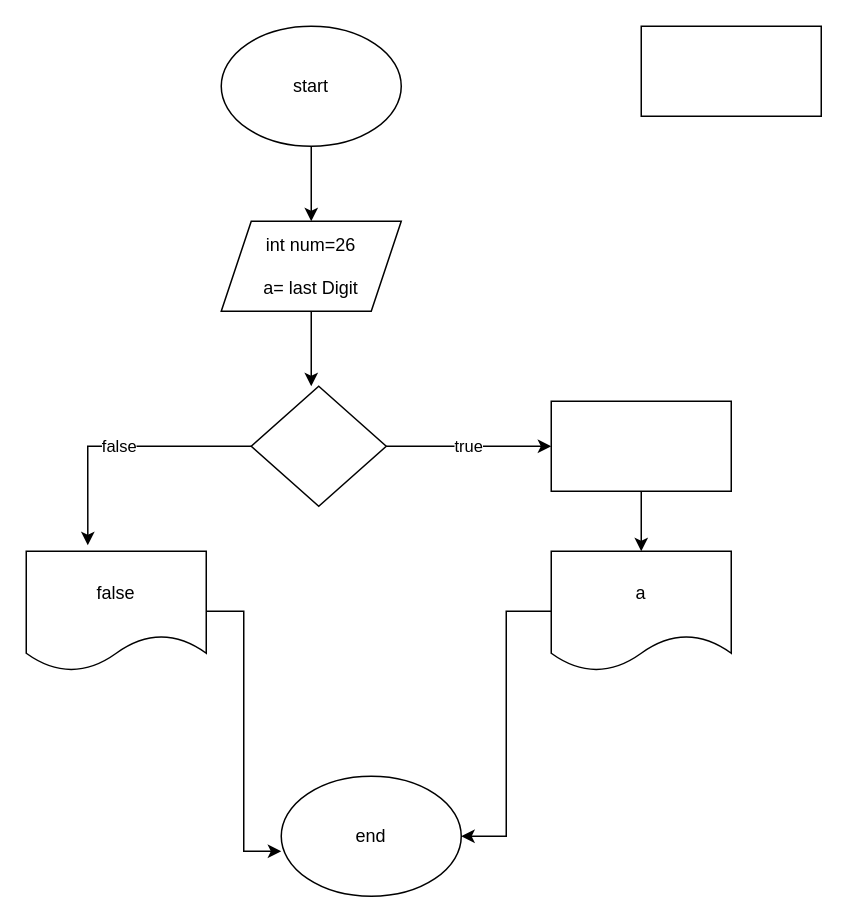
This 848x923 diagram has some shape labels left out. The centre of each missing label's shape, as x and y in pixels:
a=num%10: the point at 640,445
num>=10: the point at 318,445
task3: the point at 730,70
